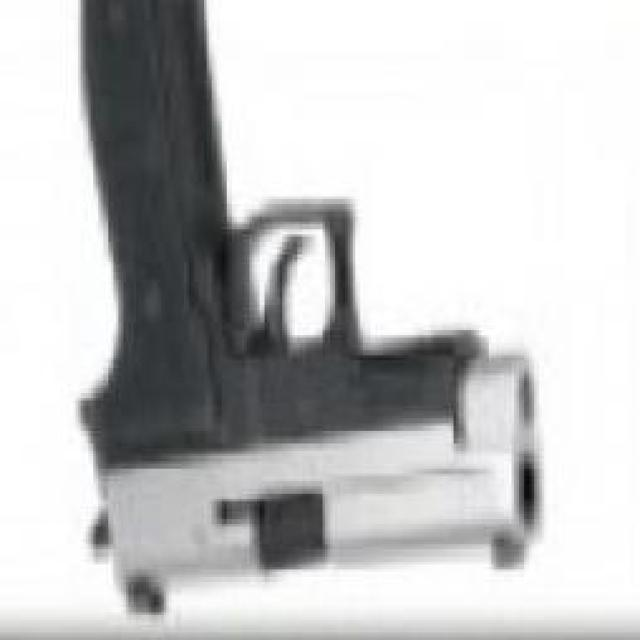pistol: (76, 0, 532, 620)
